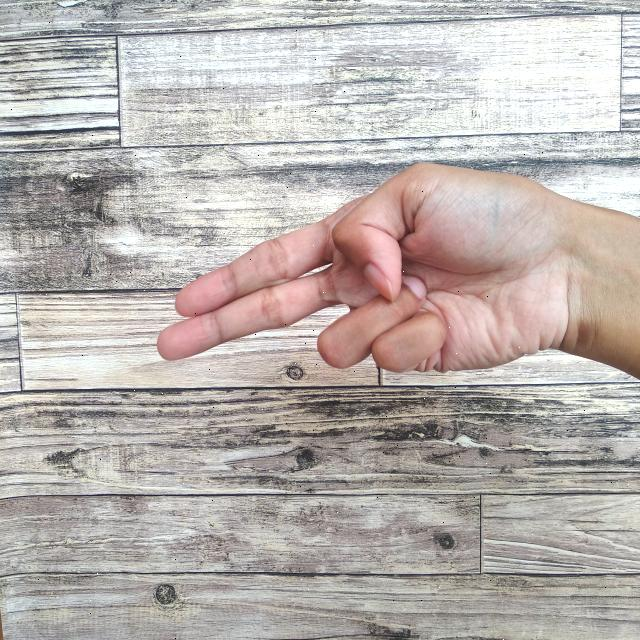H: (153, 152, 640, 394), (155, 159, 640, 385)
